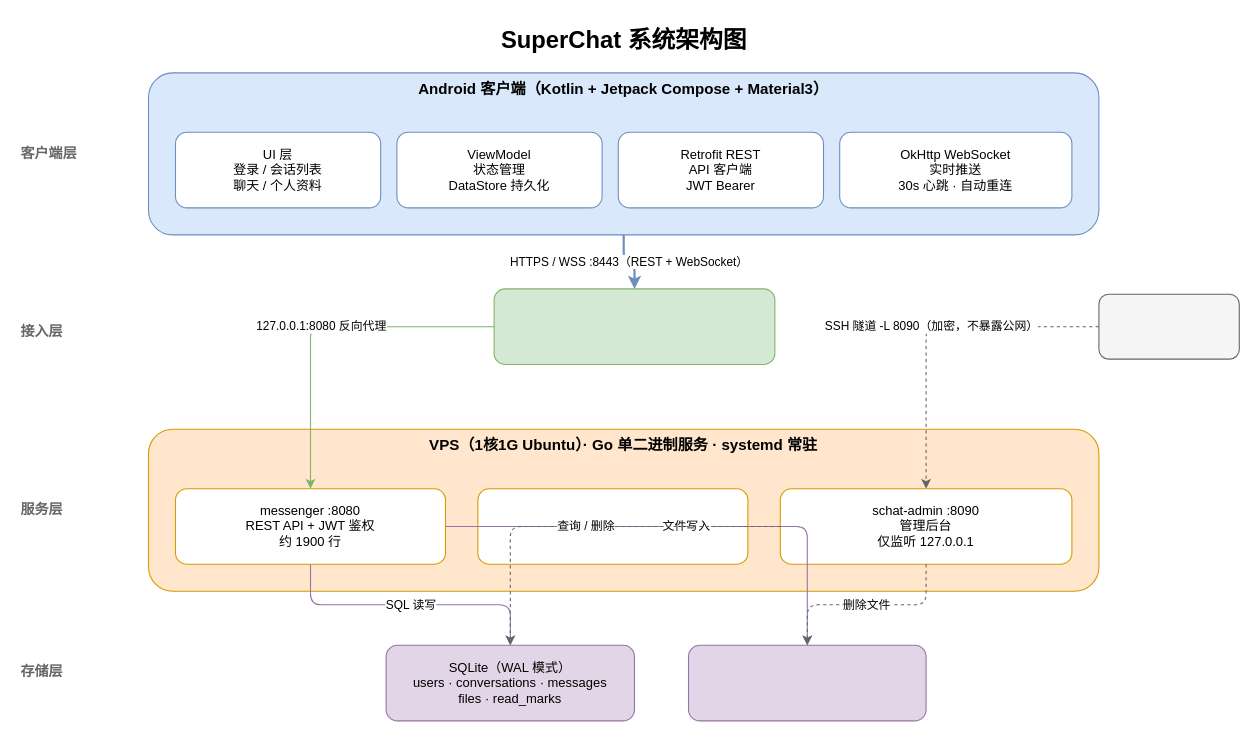
This 1258x740 diagram has some shape labels left out. The box of each missing label's shape, as (x1, y1, x2, y2) in pixels:
Caddy 反向代理 HTTPS :8443（自动 TLS 证书）: (493, 288, 775, 364)
uploads/ 目录 头像 + 聊天图片/文件 按年月归档: (687, 644, 926, 721)
WebSocket Hub 在线连接管理 实时广播推送: (477, 488, 748, 564)
管理员浏览器（本地）: (1098, 293, 1239, 359)
